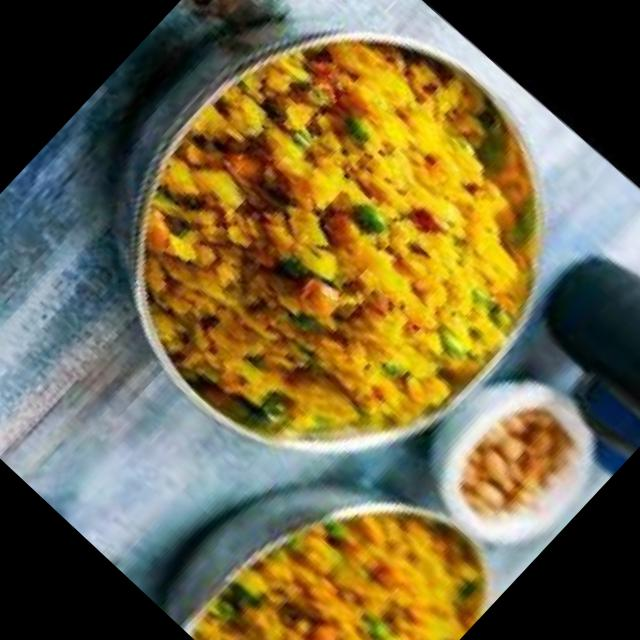poha: (58, 0, 617, 523), (186, 449, 507, 640)
